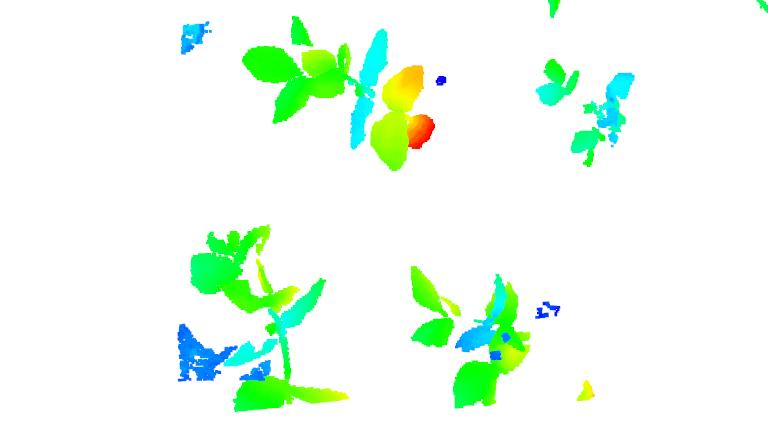mungbean: (243, 9, 444, 175), (190, 223, 354, 416), (407, 259, 534, 411), (533, 47, 639, 170)
